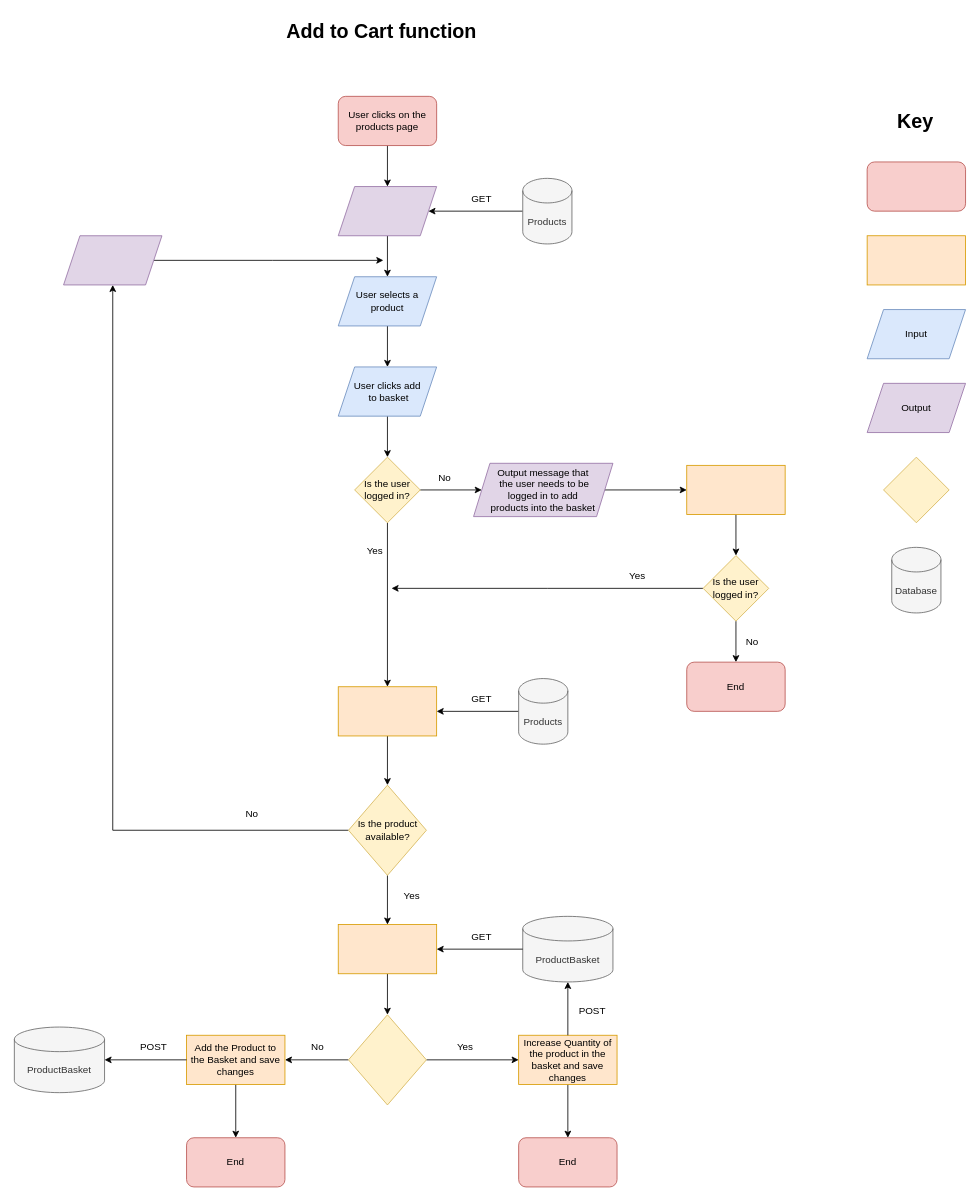
Some shapes in this 980 by 1201 pixel diagram are drawn without their labels. The centre of each missing label's shape, as x and y in pixels:
"Check if the product is already in the basket" belongs at pixel 387 949.
"Check if the product is available" belongs at pixel 387 711.
"Decision" belongs at pixel 916 489.
"Display the products page" belongs at pixel 387 211.
"Is the product in the basket?" belongs at pixel 387 1059.
"Output Error message" belongs at pixel 112 260.
"Process" belongs at pixel 916 260.
"Redirect to Login Page" belongs at pixel 735 490.
"Start/End" belongs at pixel 916 186.
